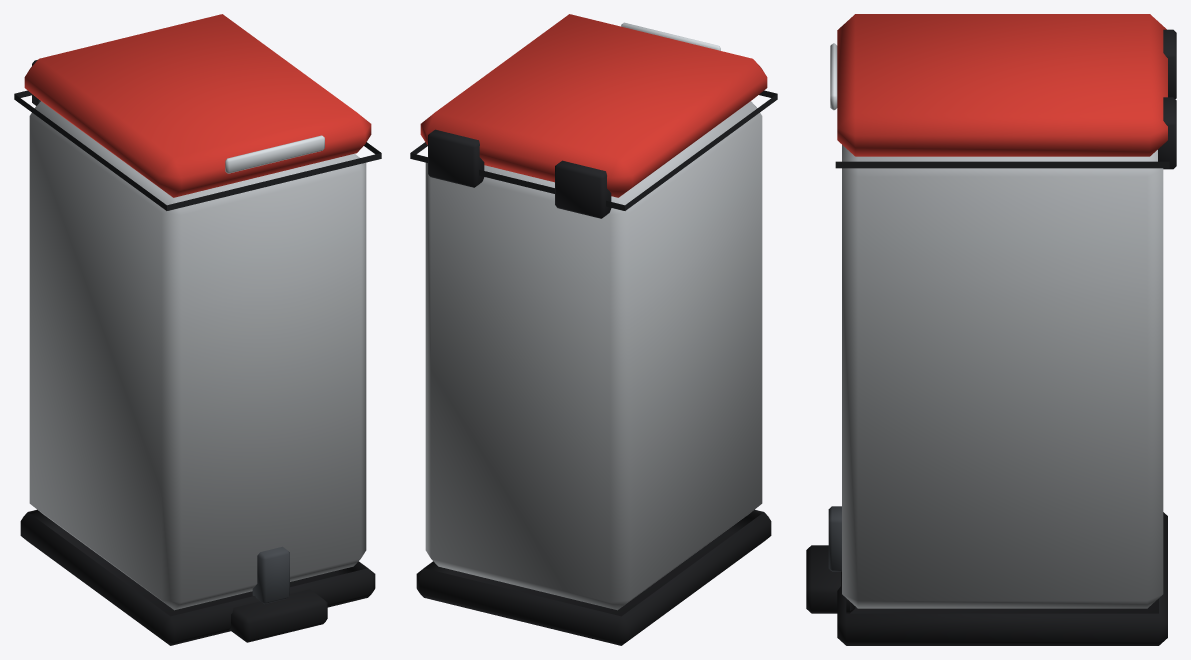
The model's file is TrashCan_StepOn_01.glb.
3 renders of one model, left to right at view 1: azimuth 30°, elevation 25°; view 2: azimuth 150°, elevation 25°; view 3: azimuth 270°, elevation 25°, orthographic. The views are drawn at different scales.
Visible parts, largest first — view 1: SM_TrashCan_StepOn_01; view 2: SM_TrashCan_StepOn_01; view 3: SM_TrashCan_StepOn_01.
Part boxes in pixels (x1,y1,x2,y2): SM_TrashCan_StepOn_01: [14, 14, 381, 645]; SM_TrashCan_StepOn_01: [410, 14, 777, 645]; SM_TrashCan_StepOn_01: [806, 14, 1176, 645].
Bounding box in the file's own units: 0.304 × 0.655 × 0.415.
1 material, 1 textured.
